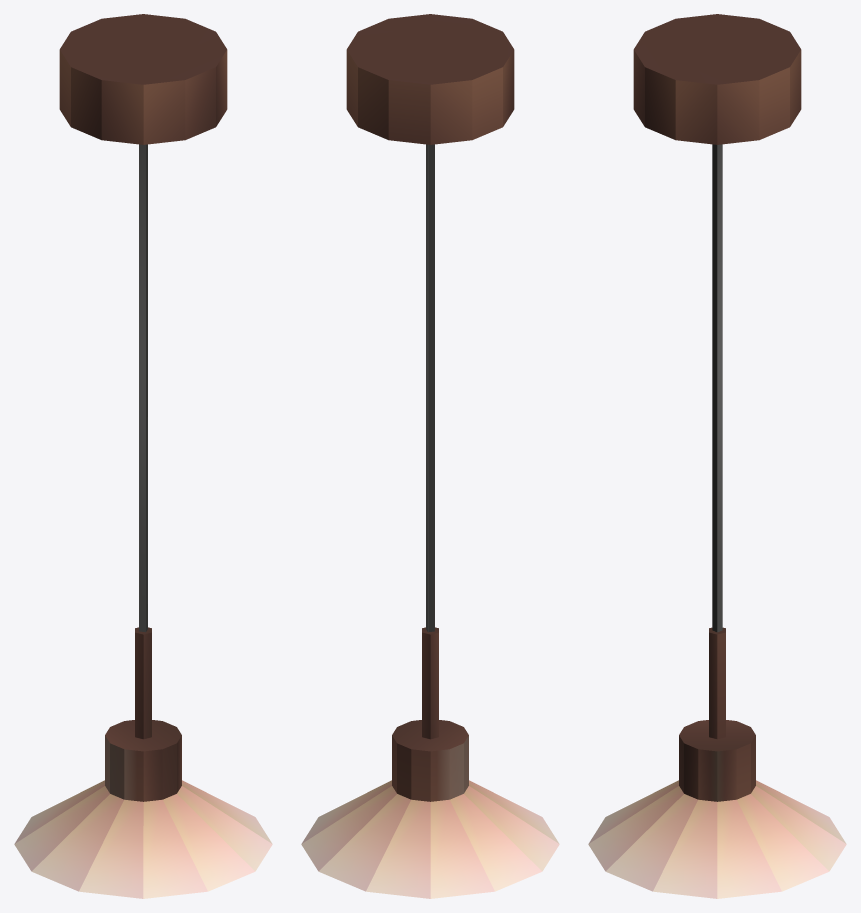
File: CBS_cafe_Light_Roof.FBX
3 views of the same model, side by side, from view 1: azimuth 30°, elevation 25°; view 2: azimuth 150°, elevation 25°; view 3: azimuth 270°, elevation 25° (orthographic).
Size of the model in its own units: 28.91 by 99.23 by 28.91.
